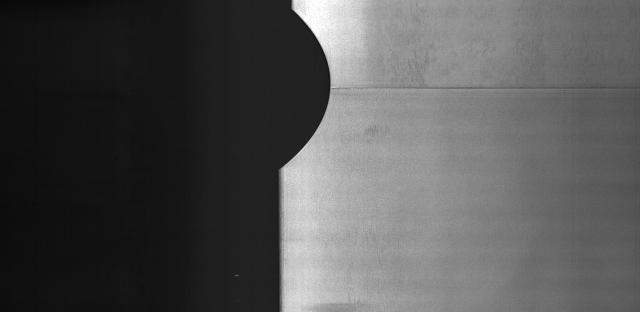welding_line: (323, 82, 640, 103)
